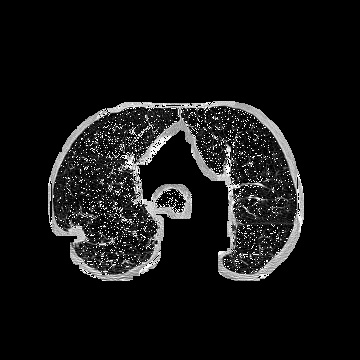PN: (67, 224, 85, 242)
